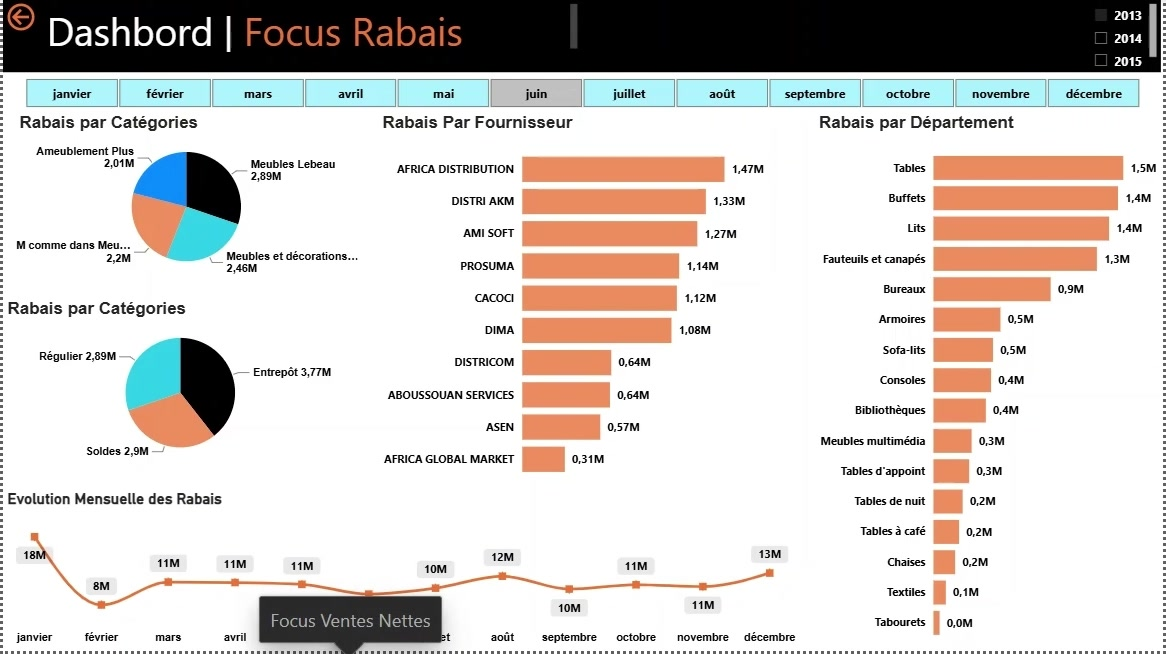

Layout of this report page (visuals, bound fields, positions):
{"tool":"powerbi","page":{"name":"Focus Rabais","canvas":[1280,720],"ordinal":8},"visuals":[{"type":"shape","box":[0,0,1278.8,81.2],"z":0},{"type":"textbox","box":[43.4,0,596.3,63.2],"z":1000},{"type":"slicer","fields":{"Values":["DimDates.Année"]},"box":[1192.7,0,86.1,81.2],"z":2000},{"type":"slicer","fields":{"Values":["DimDates.Mois"]},"box":[0,81.2,1278.8,44.7],"z":3000},{"type":"barChart","title":"Rabais par Département","fields":{"Category":["DimDept1.Nom du département"],"Y":["Tbl_mesure.Rabais"]},"box":[896.2,125.9,382.6,594.7],"z":4000},{"type":"lineChart","title":"Evolution Mensuelle des Rabais","fields":{"Y":["Tbl_mesure.Rabais"],"Category":["DimDates.Mois"]},"box":[0,541.7,882.9,178.9],"z":5000},{"type":"barChart","title":"Rabais Par Fournisseur","fields":{"Category":["DimFournisseur.Nom du fournisseur"],"Y":["Tbl_mesure.Rabais"]},"box":[414.1,125.9,468.8,415.8],"z":6000},{"type":"pieChart","title":"Rabais par Catégories","fields":{"Y":["Tbl_mesure.Rabais"],"Category":["DimCategorie.Nom de la catégorie"]},"box":[0,331.3,390.9,185.5],"z":7000},{"type":"pieChart","title":"Rabais par Catégories","fields":{"Y":["Tbl_mesure.Rabais"],"Category":["DimBanniere.Nom de la bannière"]},"box":[13.3,125.9,377.7,185.5],"z":8000},{"type":"actionButton","box":[0,0,56,39.8],"z":9000},{"type":"shape","box":[43.4,10.8,571,70.5],"z":10000}]}

Visuals, with their boxes in screenshot pixels (x1, y1, x2, y2), scaled from the page's 1280x720 canvas onto the 1166x654 screenshot:
shape: [x1=0, y1=0, x2=1165, y2=74]
textbox: [x1=40, y1=0, x2=583, y2=57]
slicer - DimDates.Année: [x1=1086, y1=0, x2=1165, y2=74]
slicer - DimDates.Mois: [x1=0, y1=74, x2=1165, y2=114]
"Rabais par Département" barChart: [x1=816, y1=114, x2=1165, y2=653]
"Evolution Mensuelle des Rabais" lineChart: [x1=0, y1=492, x2=804, y2=653]
"Rabais Par Fournisseur" barChart: [x1=377, y1=114, x2=804, y2=492]
"Rabais par Catégories" pieChart: [x1=0, y1=301, x2=356, y2=469]
"Rabais par Catégories" pieChart: [x1=12, y1=114, x2=356, y2=283]
actionButton: [x1=0, y1=0, x2=51, y2=36]
shape: [x1=40, y1=10, x2=560, y2=74]
